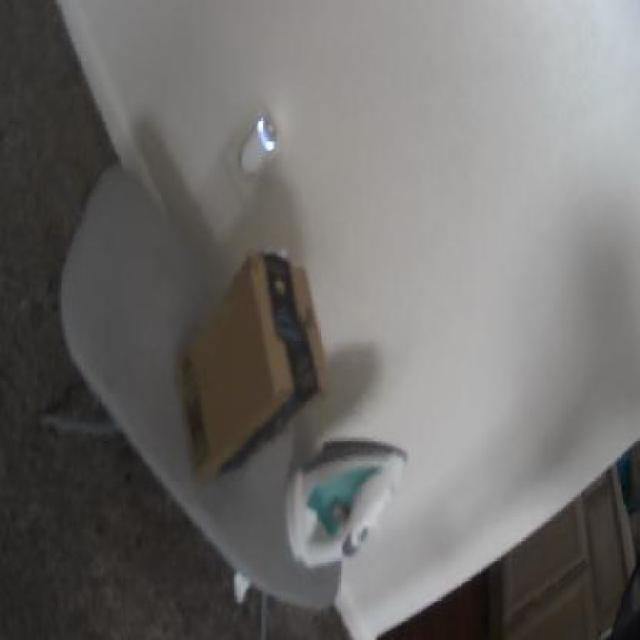cardboxes: (173, 246, 334, 498)
